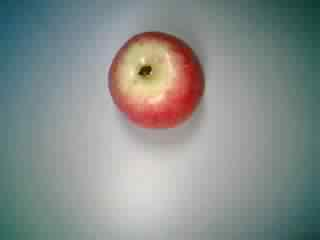apple: (104, 32, 208, 136)
